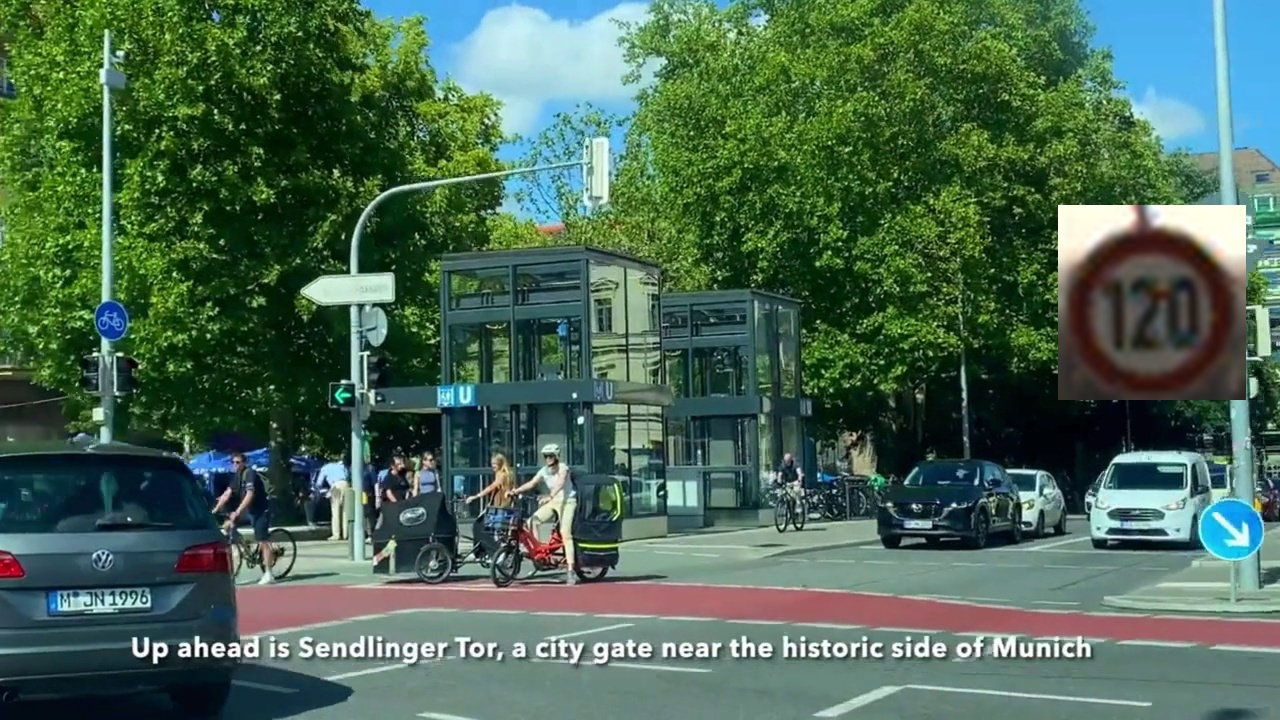Speed 120: (1058, 205, 1246, 400)
